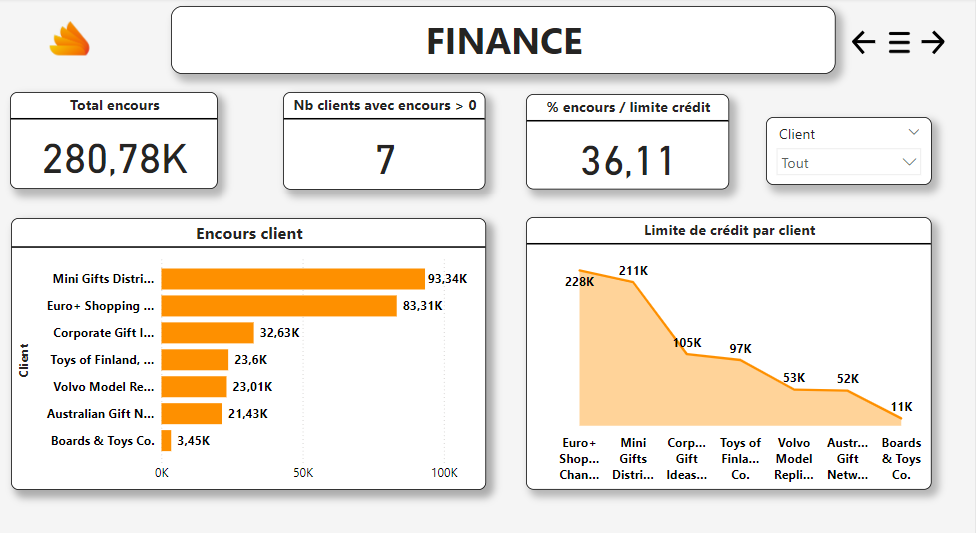

What the dashboard file says about the page in this screenshot:
{"tool":"powerbi","page":{"name":"FINANCE - 2","canvas":[1280,720],"ordinal":4},"visuals":[{"type":"clusteredBarChart","title":"Encours client","fields":{"Y":["0FIN Limite de crédit.encours"],"Category":["0FIN Limite de crédit.customerName"]},"box":[16.6,287.4,622,356],"z":0},{"type":"slicer","fields":{"Values":["Risque client.customerName"]},"box":[1005.1,155.5,217.4,89.3],"z":1000},{"type":"card","title":"Total encours","fields":{"Values":["0FIN Risque client.encours"]},"box":[15.8,122.4,272.2,126.7],"z":2000},{"type":"card","title":"Nb clients avec encours > 0","fields":{"Values":["0FIN Risque client.customerName"]},"box":[372.6,122.6,264.9,127.5],"z":3000},{"type":"card","title":"% encours / limite crédit","fields":{"Values":["0FIN Limite de crédit.taux_utl_limite_val"]},"box":[690.8,125,266.2,125],"z":4000},{"type":"actionButton","box":[1202.4,37.4,44,40.3],"z":5000},{"type":"actionButton","box":[1138.5,20.5,42.4,39.5],"z":6000},{"type":"actionButton","title":"Page précendente","box":[1114.6,37.4,44.6,40.3],"z":7000},{"type":"actionButton","box":[1159.2,37.4,44,40.3],"z":8000},{"type":"areaChart","title":"Limite de crédit par client","fields":{"Category":["0FIN Limite de crédit.customerName"],"Y":["0FIN Limite de crédit.creditLimit"]},"box":[690.7,286.6,531.3,357.4],"z":9000},{"type":"textbox","box":[226.1,10.1,869.8,89.3],"z":10000},{"type":"image","box":[44.6,10.1,103.7,89.3],"z":11000}]}

Visuals, with their boxes on the page's 1280x720 design canvas (x1, y1, x2, y2). These are canvas units, not pixel positions in the 976x533 screenshot, which may show the page scaled, cropped or inside an application window:
"Encours client" clusteredBarChart: 17/287/639/643
slicer - Risque client.customerName: 1005/156/1222/245
"Total encours" card: 16/122/288/249
"Nb clients avec encours > 0" card: 373/123/638/250
"% encours / limite crédit" card: 691/125/957/250
actionButton: 1202/37/1246/78
actionButton: 1138/20/1181/60
"Page précendente" actionButton: 1115/37/1159/78
actionButton: 1159/37/1203/78
"Limite de crédit par client" areaChart: 691/287/1222/644
textbox: 226/10/1096/99
image: 45/10/148/99
